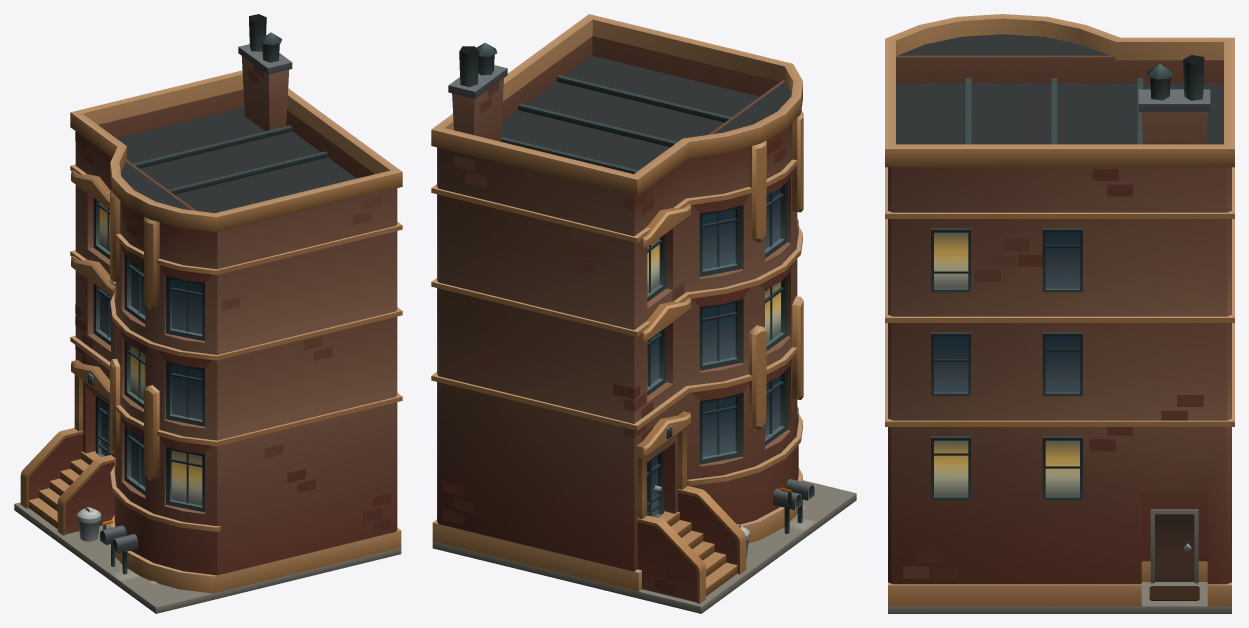
File: Building_4B.fbx
3 views of the same model, side by side, from view 1: azimuth 30°, elevation 25°; view 2: azimuth 150°, elevation 25°; view 3: azimuth 270°, elevation 25° (orthographic). The views are drawn at different scales.
Visible parts, largest first — view 1: Building_4B, Window_Lights_4B; view 2: Building_4B, Window_Lights_4B; view 3: Building_4B, Window_Lights_4B.
Boxes of the visible parts, <box> form: Building_4B: <box>14,14,402,613</box>; Window_Lights_4B: <box>99,202,202,505</box>; Building_4B: <box>431,14,856,613</box>; Window_Lights_4B: <box>647,238,780,342</box>; Building_4B: <box>885,14,1234,613</box>; Window_Lights_4B: <box>934,232,1079,496</box>.
Size of the model in its own units: 12.05 by 20.93 by 12.2.
